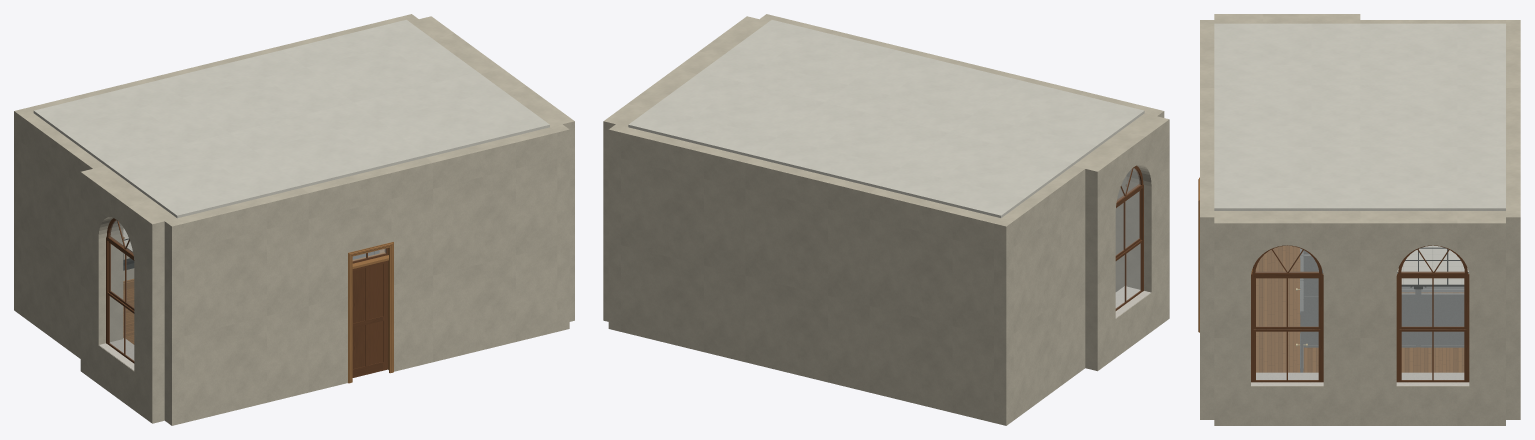
File: X14_DEMO_LRS_Room.glb
3 views of the same model, side by side, from view 1: azimuth 30°, elevation 25°; view 2: azimuth 150°, elevation 25°; view 3: azimuth 270°, elevation 25° (orthographic).
Visible parts, largest first — view 1: X14_ARCH_Wall_Plain_300_LOD0.s0, X14_ARCH_Wall_Plain_300_LOD0.s2, X14_ARCH_Wall_Door_300_LOD0.s1, X14_ARCH_Wall_Window_300_LOD0.w1, X14_ARCH_Wall_Plain_300_LOD0.w0, X14_ARCH_Ceiling_300_LOD0.c00, X14_ARCH_Ceiling_300_LOD0.c10, X14_ARCH_Ceiling_300_LOD0.c20, X14_ARCH_Ceiling_300_LOD0.c01, X14_ARCH_Ceiling_300_LOD0.c11, X14_ARCH_Ceiling_300_LOD0.c21, X14_ARCH_Corner_LOD0.k0 (+10 smaller); view 2: X14_ARCH_Wall_Plain_300_LOD0.n1, X14_ARCH_Wall_Plain_300_LOD0.n2, X14_ARCH_Wall_Plain_300_LOD0.n0, X14_ARCH_Wall_Window_300_LOD0.w1, X14_ARCH_Wall_Plain_300_LOD0.w0, X14_ARCH_Ceiling_300_LOD0.c01, X14_ARCH_Ceiling_300_LOD0.c21, X14_ARCH_Ceiling_300_LOD0.c11, X14_ARCH_Ceiling_300_LOD0.c00, X14_ARCH_Ceiling_300_LOD0.c10, X14_ARCH_Ceiling_300_LOD0.c20, X14_ARCH_Corner_LOD0.k3 (+7 smaller); view 3: X14_ARCH_Wall_Window_300_LOD0.e0, X14_ARCH_Wall_Window_300_LOD0.e1, X14_ARCH_Ceiling_300_LOD0.c20, X14_ARCH_Ceiling_300_LOD0.c21, X14_ARCH_Ceiling_300_LOD0.c00, X14_ARCH_Ceiling_300_LOD0.c01, X14_ARCH_Ceiling_300_LOD0.c10, X14_ARCH_Ceiling_300_LOD0.c11, X14_ARCH_Wall_Window_300_Glass_LOD0.e0, X14_ARCH_Wall_Window_300_Glass_LOD0.e1, X14_ARCH_Corner_LOD0.k1, X14_ARCH_Corner_LOD0.k2 (+18 smaller).
Boxes of the visible parts, <box> form: X14_ARCH_Wall_Plain_300_LOD0.s0: <box>177,188,308,422</box>; X14_ARCH_Wall_Plain_300_LOD0.s2: <box>426,127,557,362</box>; X14_ARCH_Wall_Door_300_LOD0.s1: <box>302,157,432,392</box>; X14_ARCH_Wall_Window_300_LOD0.w1: <box>80,166,176,423</box>; X14_ARCH_Wall_Plain_300_LOD0.w0: <box>21,113,104,358</box>; X14_ARCH_Ceiling_300_LOD0.c00: <box>105,133,301,218</box>; X14_ARCH_Ceiling_300_LOD0.c10: <box>230,102,425,187</box>; X14_ARCH_Ceiling_300_LOD0.c20: <box>354,72,549,157</box>; X14_ARCH_Ceiling_300_LOD0.c01: <box>33,80,229,165</box>; X14_ARCH_Ceiling_300_LOD0.c11: <box>158,50,353,132</box>; X14_ARCH_Ceiling_300_LOD0.c21: <box>282,19,477,102</box>; X14_ARCH_Corner_LOD0.k0: <box>164,218,184,425</box>; X14_ARCH_Wall_Plain_300_LOD0.n1: <box>745,157,876,392</box>; X14_ARCH_Wall_Plain_300_LOD0.n2: <box>869,188,1000,422</box>; X14_ARCH_Wall_Plain_300_LOD0.n0: <box>621,127,751,361</box>; X14_ARCH_Wall_Window_300_LOD0.w1: <box>1073,113,1169,371</box>; X14_ARCH_Wall_Plain_300_LOD0.w0: <box>1001,166,1085,420</box>; X14_ARCH_Ceiling_300_LOD0.c01: <box>877,133,1072,217</box>; X14_ARCH_Ceiling_300_LOD0.c21: <box>628,72,823,157</box>; X14_ARCH_Ceiling_300_LOD0.c11: <box>752,102,948,187</box>; X14_ARCH_Ceiling_300_LOD0.c00: <box>949,80,1144,165</box>; X14_ARCH_Ceiling_300_LOD0.c10: <box>824,50,1019,132</box>; X14_ARCH_Ceiling_300_LOD0.c20: <box>700,20,895,102</box>; X14_ARCH_Corner_LOD0.k3: <box>994,218,1013,425</box>; X14_ARCH_Wall_Window_300_LOD0.e0: <box>1214,211,1360,425</box>; X14_ARCH_Wall_Window_300_LOD0.e1: <box>1360,211,1505,425</box>; X14_ARCH_Ceiling_300_LOD0.c20: <box>1214,147,1360,210</box>; X14_ARCH_Ceiling_300_LOD0.c21: <box>1360,147,1505,210</box>; X14_ARCH_Ceiling_300_LOD0.c00: <box>1214,23,1360,85</box>; X14_ARCH_Ceiling_300_LOD0.c01: <box>1360,23,1505,85</box>; X14_ARCH_Ceiling_300_LOD0.c10: <box>1214,85,1360,146</box>; X14_ARCH_Ceiling_300_LOD0.c11: <box>1360,85,1505,146</box>; X14_ARCH_Wall_Window_300_Glass_LOD0.e0: <box>1256,246,1318,379</box>; X14_ARCH_Wall_Window_300_Glass_LOD0.e1: <box>1401,246,1464,379</box>; X14_ARCH_Corner_LOD0.k1: <box>1200,211,1214,419</box>; X14_ARCH_Corner_LOD0.k2: <box>1506,211,1520,419</box>.
Size of what is drawn, in the model's own units: 10.2 by 4.66 by 6.63.
Materials: 14 (9 with a texture image).
